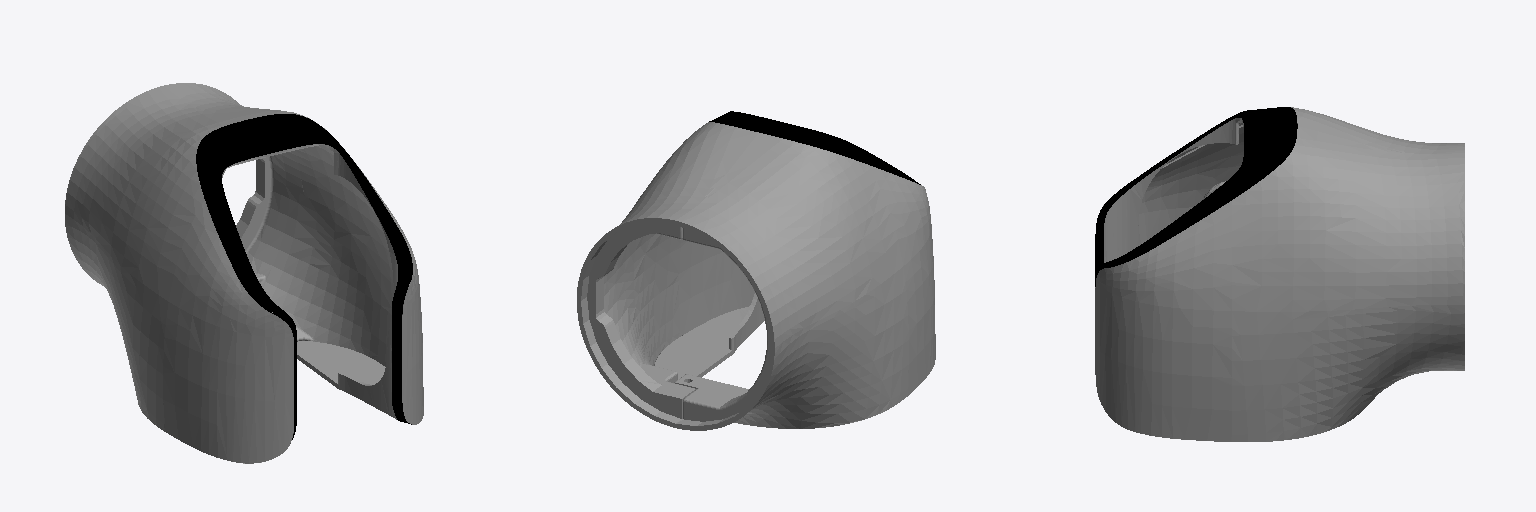
The picture shows the model from 3 angles: view 1: azimuth 30°, elevation 25°; view 2: azimuth 150°, elevation 25°; view 3: azimuth 270°, elevation 25°; orthographic projection.
Visible parts, largest first — view 1: left_arm_link2; view 2: left_arm_link2; view 3: left_arm_link2.
Boxes of the visible parts, x1,y1,x2,y2 form: left_arm_link2: [65, 83, 423, 463]; left_arm_link2: [577, 111, 935, 430]; left_arm_link2: [1095, 107, 1464, 441].
Size of the model in its own units: 0.1086 by 0.1148 by 0.148.